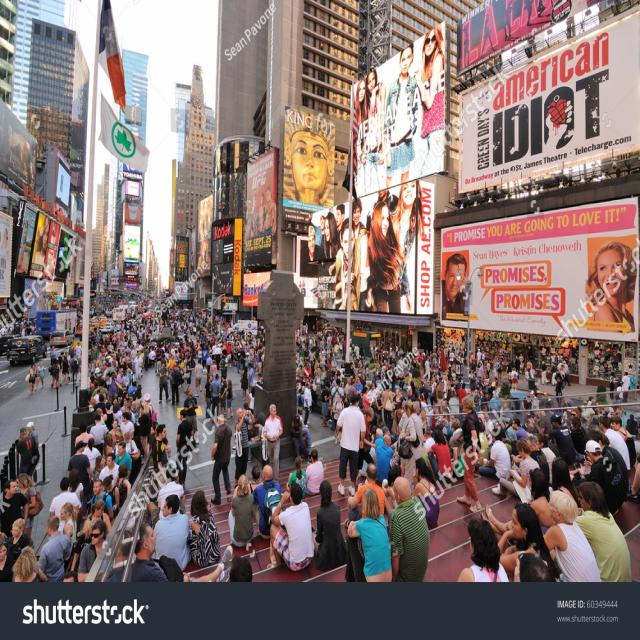body: (295, 322, 436, 478), (73, 286, 266, 372), (434, 345, 571, 455), (353, 24, 444, 177), (336, 177, 426, 316), (283, 106, 335, 313), (73, 372, 160, 478), (572, 480, 633, 583), (130, 522, 234, 582), (462, 0, 551, 69), (480, 465, 558, 538), (542, 489, 602, 583), (497, 501, 560, 582), (586, 238, 637, 338), (344, 488, 393, 583), (266, 480, 316, 572), (389, 476, 430, 583), (576, 438, 628, 520), (309, 479, 349, 573), (570, 384, 640, 436), (333, 392, 367, 497), (456, 518, 510, 582), (455, 393, 483, 515), (491, 438, 541, 506), (153, 494, 192, 574), (0, 107, 37, 189), (586, 428, 630, 494), (344, 462, 386, 529), (186, 488, 221, 568), (66, 438, 94, 532), (147, 466, 186, 531), (36, 514, 72, 583), (438, 252, 470, 328), (15, 471, 45, 550), (252, 463, 282, 540), (226, 473, 255, 550), (209, 413, 233, 506), (402, 398, 424, 498), (410, 457, 440, 527), (536, 413, 576, 465), (511, 436, 550, 488), (69, 518, 100, 582), (232, 407, 256, 489), (77, 518, 107, 583), (32, 212, 61, 279), (598, 415, 631, 471), (478, 428, 512, 482), (0, 478, 29, 540), (49, 476, 80, 534), (246, 184, 278, 240), (425, 428, 454, 486), (263, 403, 284, 482), (551, 456, 581, 508), (175, 409, 194, 491), (11, 545, 48, 583), (59, 501, 78, 574), (381, 463, 402, 528), (610, 414, 636, 466), (357, 406, 376, 477), (82, 499, 113, 542), (151, 423, 169, 494), (15, 427, 40, 478), (518, 551, 557, 582), (534, 432, 556, 486), (68, 468, 84, 542), (48, 341, 73, 388), (3, 517, 30, 560), (289, 412, 312, 462), (449, 432, 471, 484), (374, 434, 395, 488), (198, 198, 212, 274), (90, 477, 114, 521), (182, 387, 200, 445), (25, 421, 40, 487), (152, 423, 172, 472), (304, 448, 324, 497), (381, 381, 396, 439), (0, 316, 37, 339), (286, 456, 307, 496), (98, 452, 121, 488), (330, 377, 345, 432), (115, 464, 132, 511), (102, 474, 120, 518), (114, 440, 133, 480), (316, 381, 332, 428), (247, 420, 264, 463), (297, 408, 315, 448), (568, 416, 586, 456), (332, 392, 344, 446), (0, 539, 15, 582), (168, 362, 182, 407), (158, 359, 171, 404), (210, 372, 221, 424), (224, 379, 237, 420), (18, 220, 29, 267), (183, 354, 195, 395), (248, 464, 264, 494), (203, 374, 213, 419), (458, 382, 468, 426), (303, 382, 312, 428), (219, 373, 228, 418), (194, 358, 204, 397), (521, 392, 533, 422), (240, 365, 249, 401), (27, 363, 37, 395), (621, 371, 631, 402), (530, 390, 540, 420), (361, 386, 371, 413), (0, 226, 9, 253), (36, 361, 44, 390), (247, 386, 255, 415), (609, 370, 616, 400), (248, 362, 254, 395), (256, 372, 264, 388), (243, 402, 249, 409)
